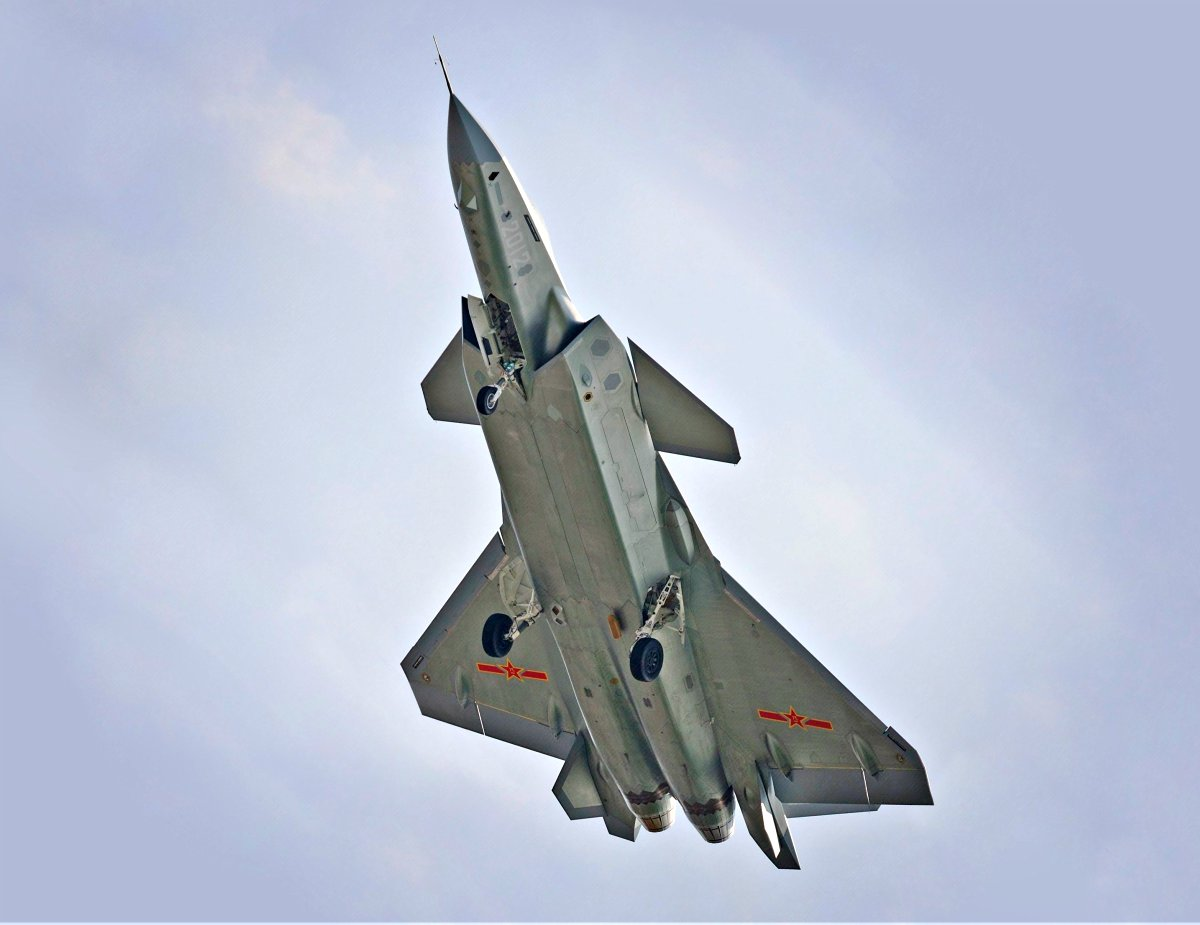J20: (399, 33, 935, 870)
